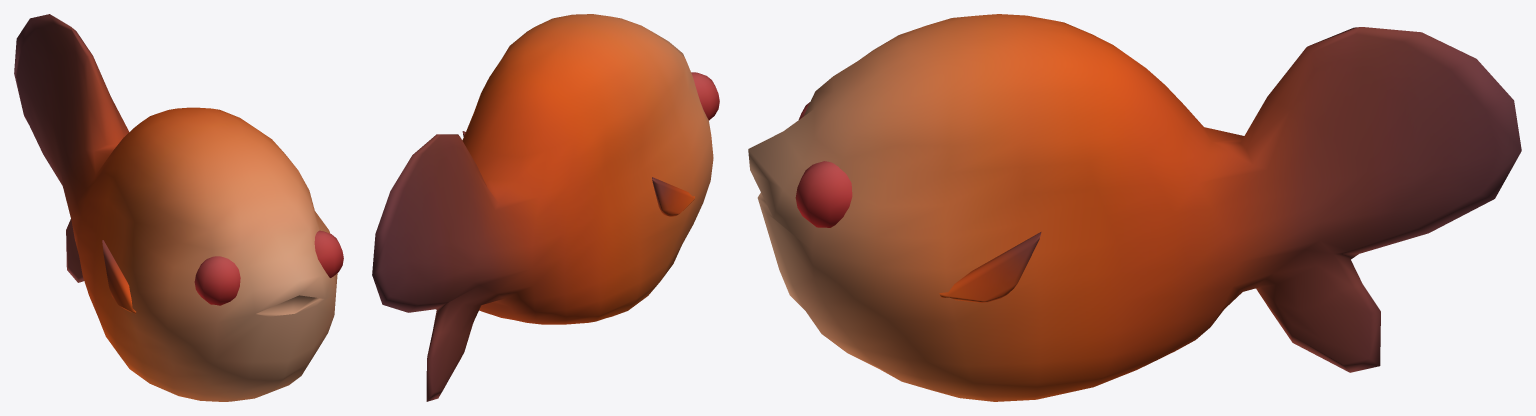
Rendered from FIsh_small.fbx.
3 renders of one model, left to right at view 1: azimuth 30°, elevation 25°; view 2: azimuth 150°, elevation 25°; view 3: azimuth 270°, elevation 25°, orthographic. The views are drawn at different scales.
Parts seen in each view (by area): view 1: fish_small_body, Eye, Finn_right, pasted__Eye; view 2: fish_small_body, Finn_right, Eye; view 3: fish_small_body, Finn_left, pasted__Eye.
Boxes of the visible parts, bbox=[...] form: fish_small_body: bbox=[14, 14, 337, 401]; Eye: bbox=[194, 256, 240, 305]; Finn_right: bbox=[102, 240, 135, 313]; pasted__Eye: bbox=[314, 230, 343, 277]; fish_small_body: bbox=[372, 14, 713, 401]; Finn_right: bbox=[652, 177, 694, 216]; Eye: bbox=[691, 72, 719, 120]; fish_small_body: bbox=[748, 14, 1521, 401]; Finn_left: bbox=[939, 232, 1041, 302]; pasted__Eye: bbox=[795, 161, 852, 227].
Bounding box in the file's own units: 1.52 × 1.98 × 3.94.
Materials: 2 (2 with a texture image).
